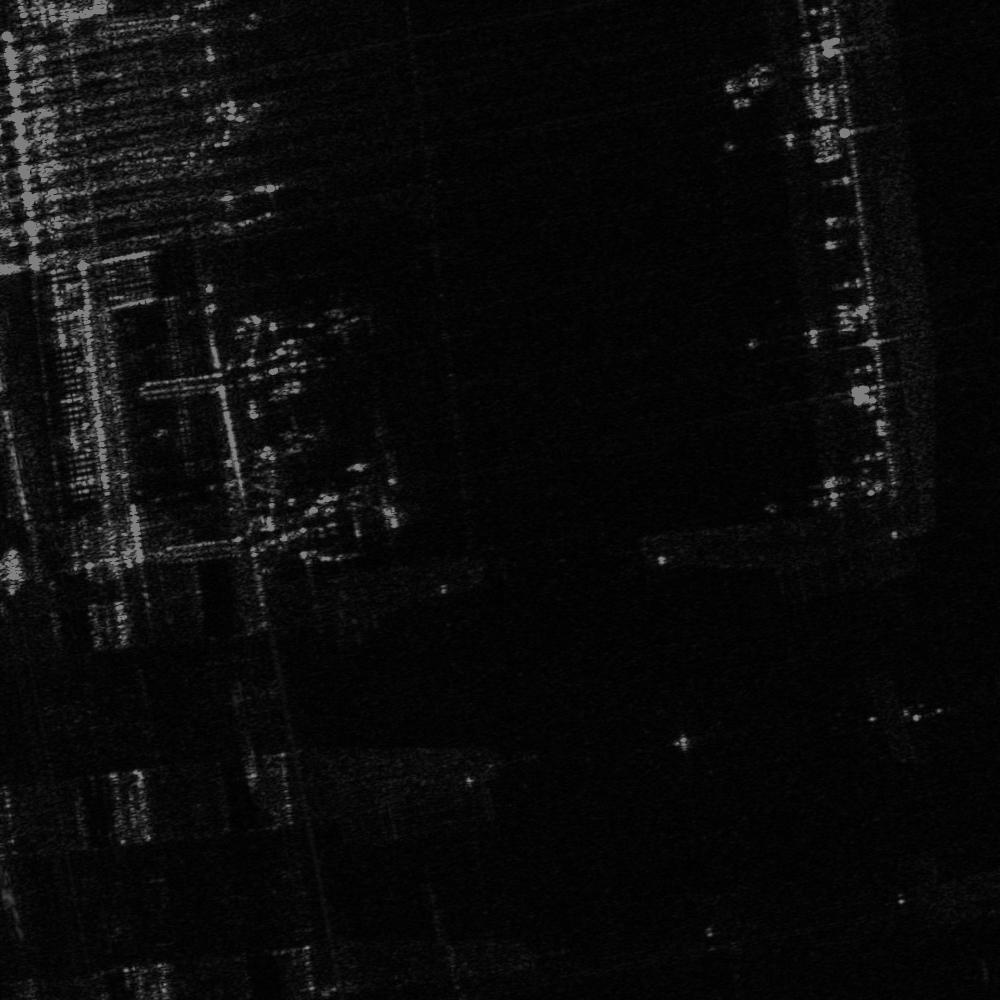Boeing737: (343, 477, 409, 537)
